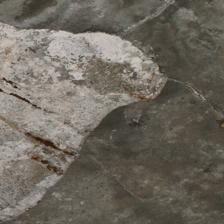Crack: (86, 38, 136, 79)
